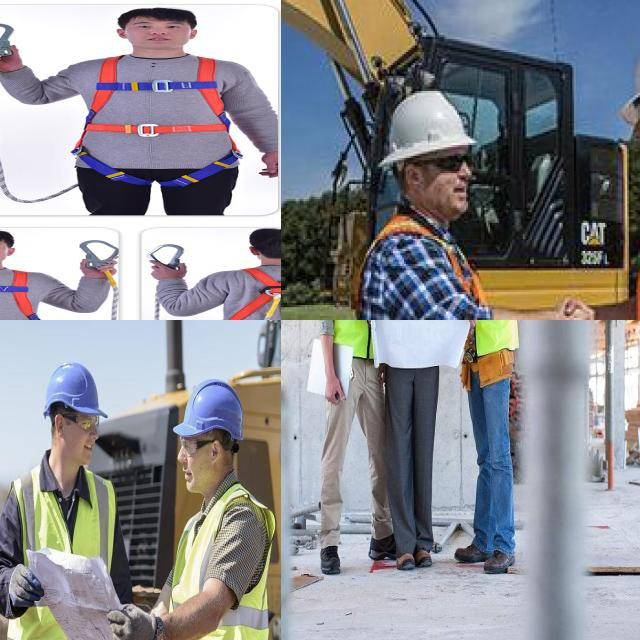Harness: (63, 52, 250, 186), (211, 264, 281, 320), (0, 268, 65, 320)
No_Ear-Protection: (53, 409, 66, 442), (211, 438, 221, 464)
face_nomask: (417, 145, 479, 225), (177, 436, 226, 501), (58, 404, 102, 463)
glasses: (430, 148, 479, 179), (176, 433, 202, 458), (75, 411, 102, 434)
hand_glove: (105, 601, 166, 640), (2, 562, 46, 612)
hand_noglove: (548, 292, 601, 320), (317, 377, 348, 408)
head_helmet: (382, 89, 479, 164), (175, 379, 247, 446), (44, 364, 106, 418)
person: (357, 86, 510, 320), (14, 345, 115, 640), (171, 379, 257, 640), (460, 320, 516, 570), (334, 320, 388, 562), (391, 320, 438, 566)
shoes: (481, 544, 520, 578), (452, 540, 491, 566), (316, 541, 342, 578), (392, 544, 418, 578), (411, 541, 434, 570)
vest: (4, 469, 125, 640), (170, 495, 281, 640), (359, 232, 494, 320), (466, 320, 516, 347), (329, 320, 367, 347)
